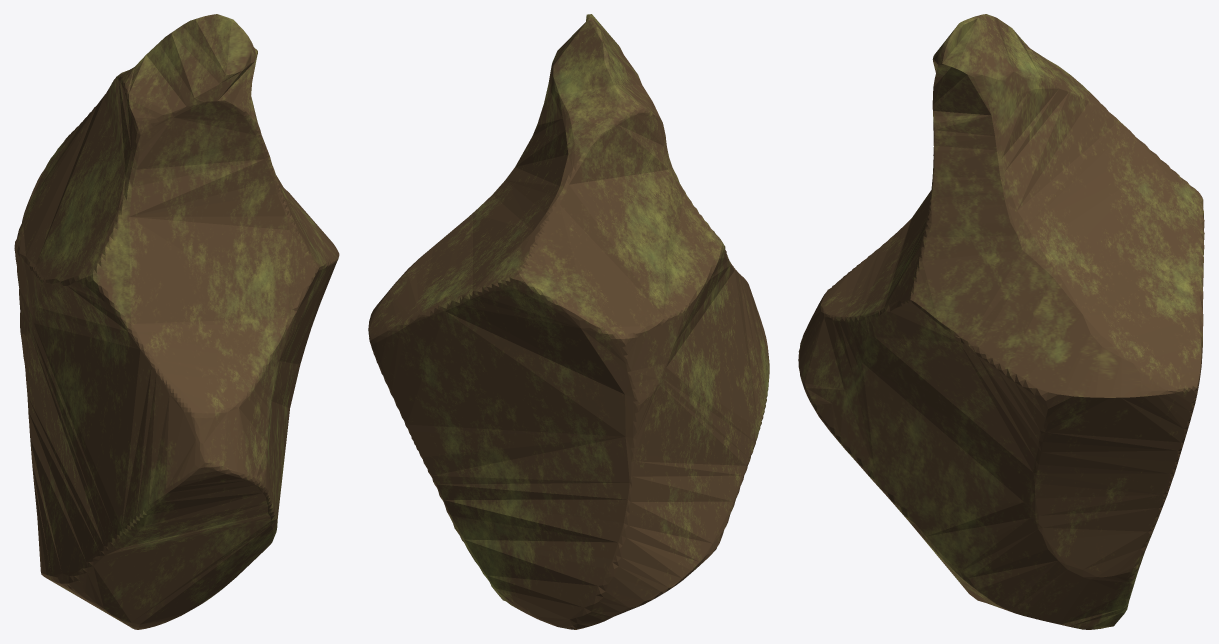
File: Rock7.fbx
The picture shows the model from 3 angles, left to right: view 1: azimuth 30°, elevation 25°; view 2: azimuth 150°, elevation 25°; view 3: azimuth 270°, elevation 25°; orthographic projection. The views are drawn at different scales.
Visible parts, largest first — view 1: Rock2; view 2: Rock2; view 3: Rock2.
Part boxes in pixels (x1,y1,x2,y2): Rock2: (14, 14, 339, 629); Rock2: (368, 14, 769, 629); Rock2: (798, 14, 1204, 629).
Size of the model in its own units: 104 by 199 by 118.
Materials: 1 (1 with a texture image).
